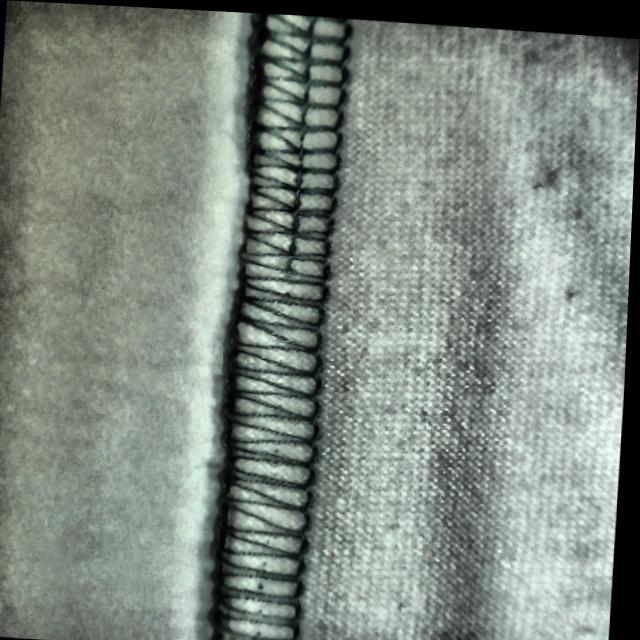Stitch: (228, 10, 351, 477)
